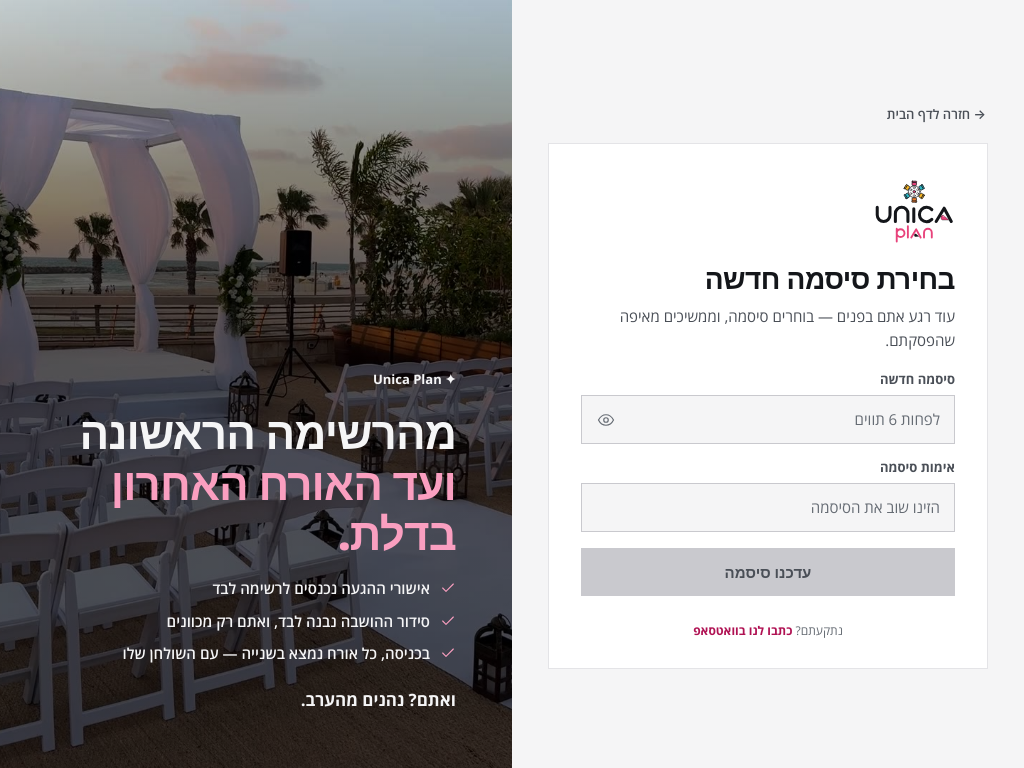
Test: the reset link › a spent link says so and sends a new one from right here
Type "secret12" into the password field labelled "סיסמה חדשה" at (768, 420), box x1=581 y1=395 x2=955 y2=444
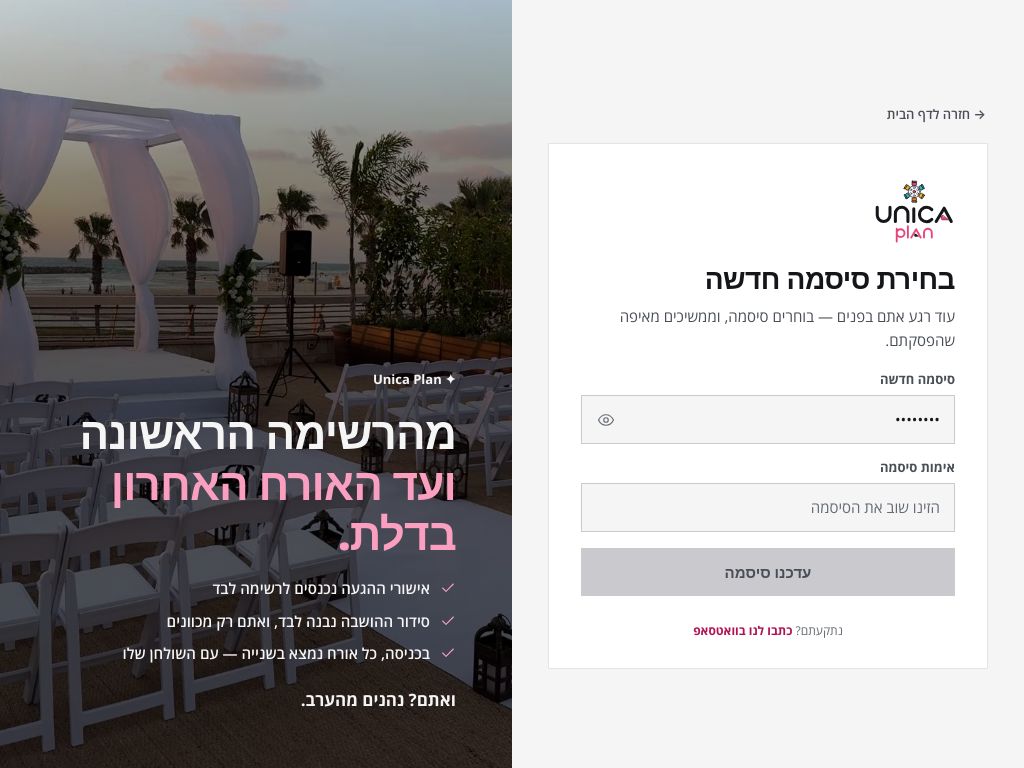
Type "secret12" into the password field labelled "אימות סיסמה" at (768, 508), box x1=581 y1=483 x2=955 y2=532
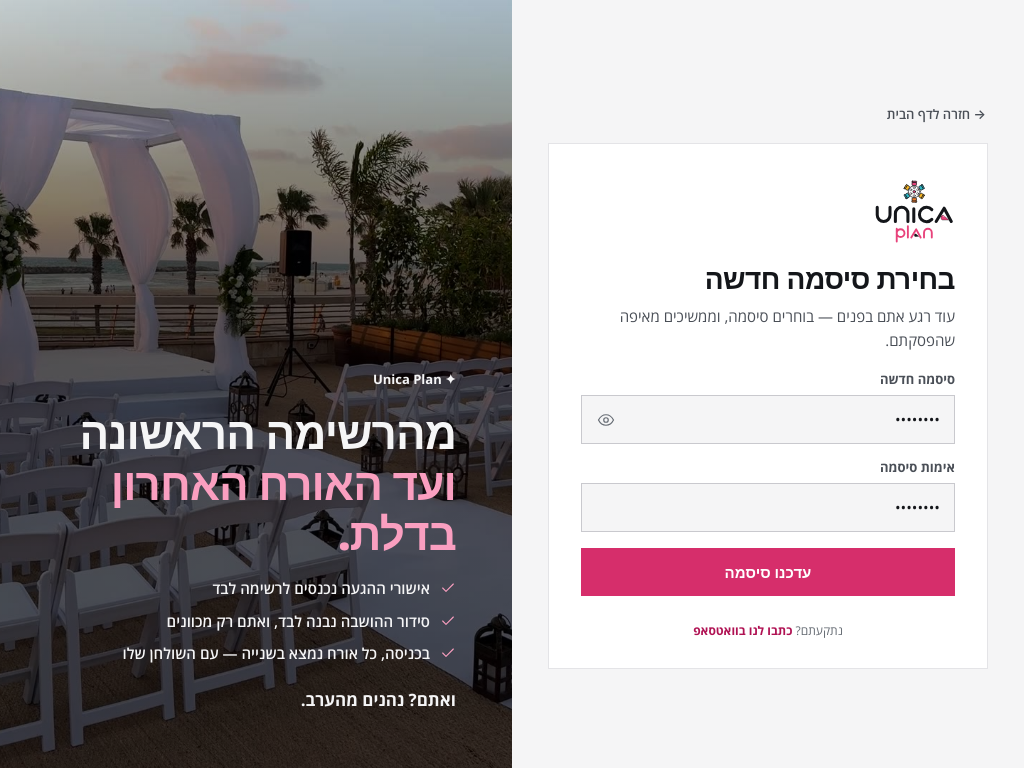
Click the button "עדכנו סיסמה" at (768, 572), box x1=581 y1=548 x2=955 y2=596
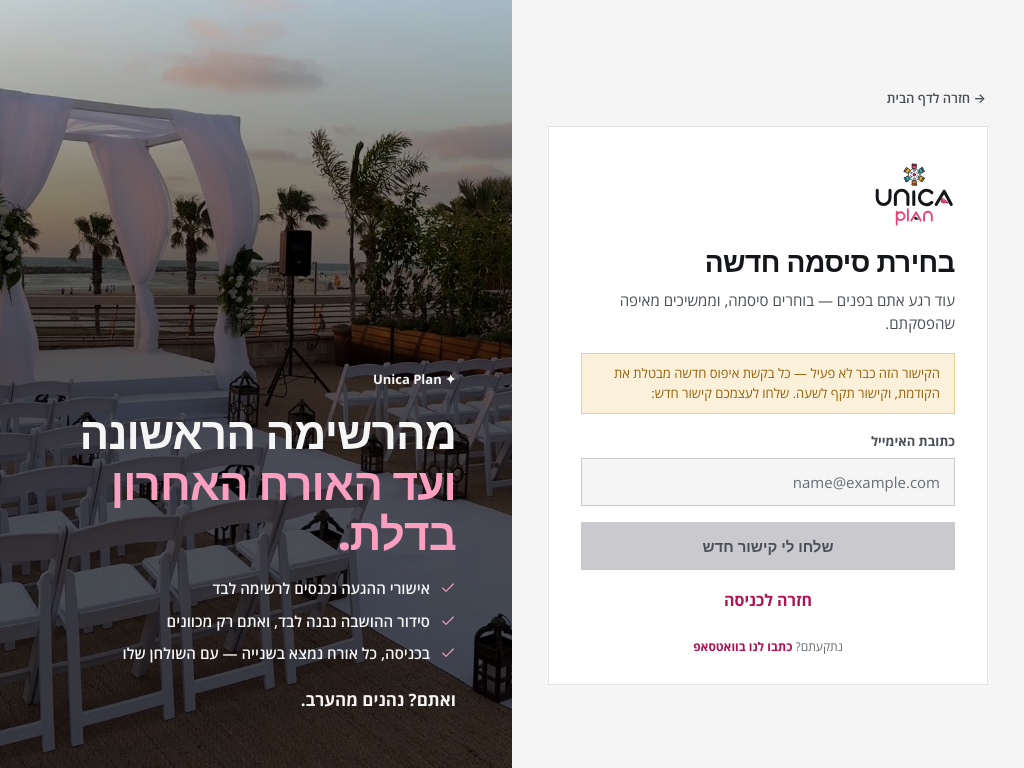
Check: the text "הקישור הזה כבר לא פעיל" is shown, box x1=614 y1=364 x2=940 y2=402
Type "a@b.co" into the field labelled "כתובת האימייל" at (768, 482), box x1=581 y1=458 x2=955 y2=506
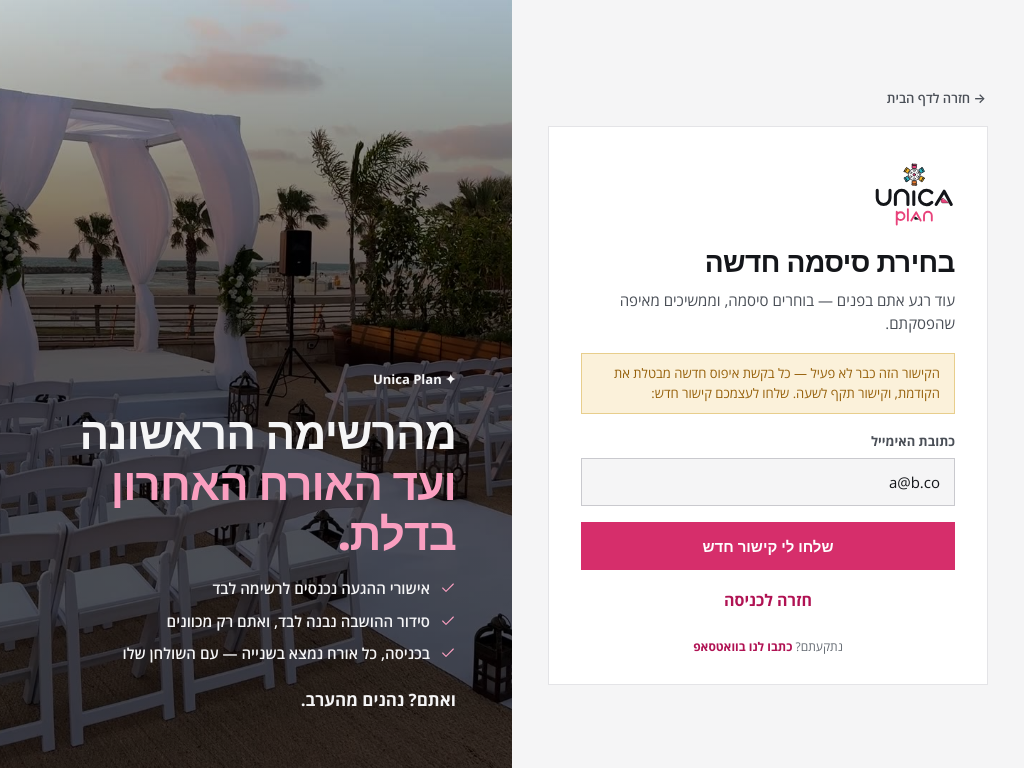
Click the button "שלחו לי קישור חדש" at (768, 546), box x1=581 y1=522 x2=955 y2=570
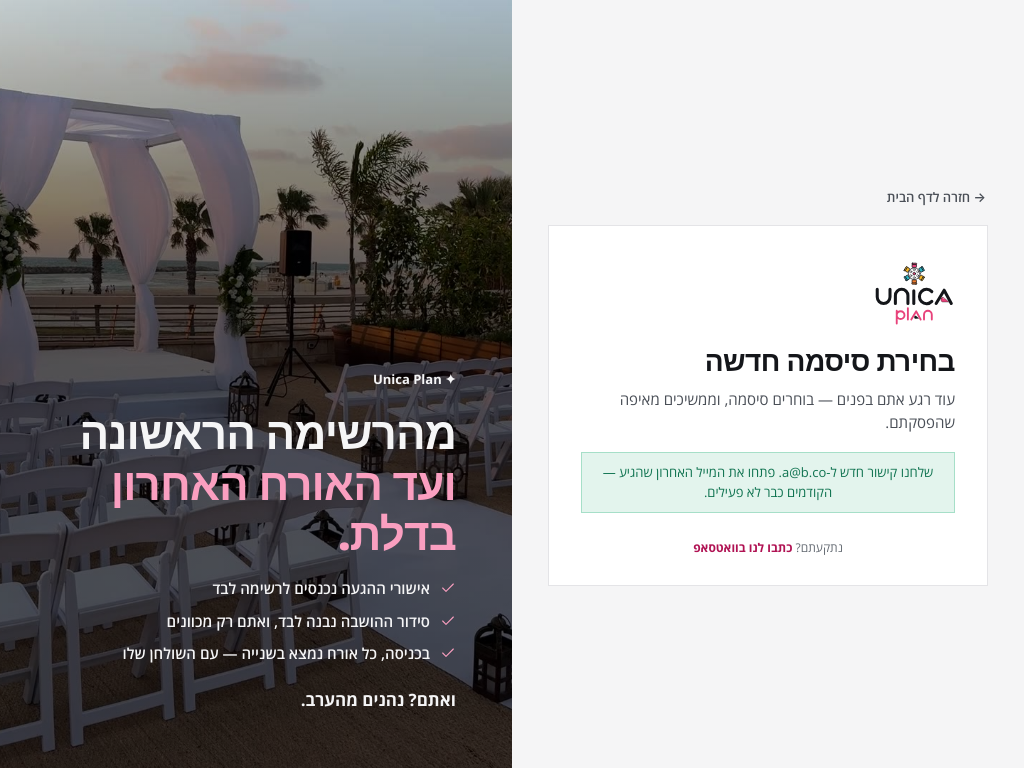
Check: the message shows "שלחנו קישור חדש", box x1=826 y1=463 x2=933 y2=481
